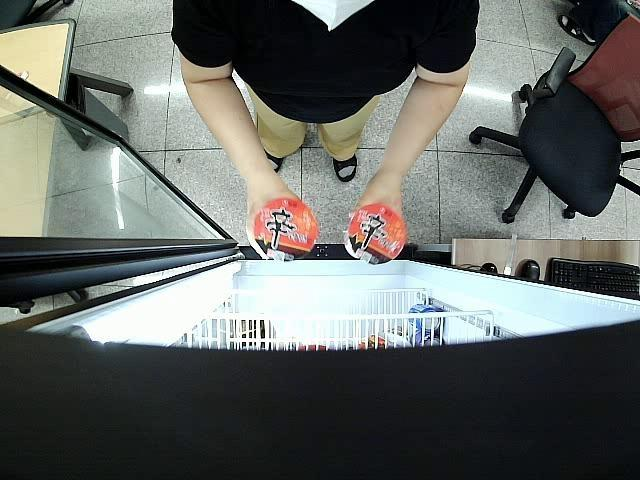02_shinRamen_S: (254, 198, 319, 262), (343, 204, 408, 264)
